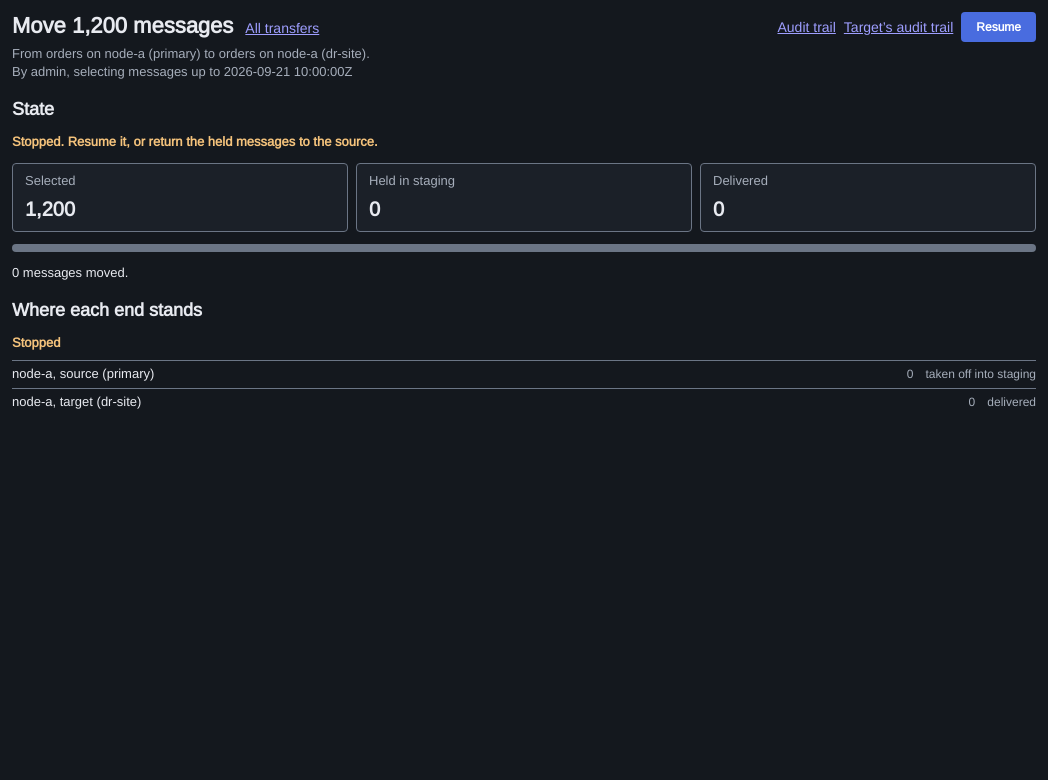
it: TransferRunView commands › resumes a stopped transfer
Click the button "Resume" at [999, 27], box top-left (961, 12), bottom-right (1036, 42)
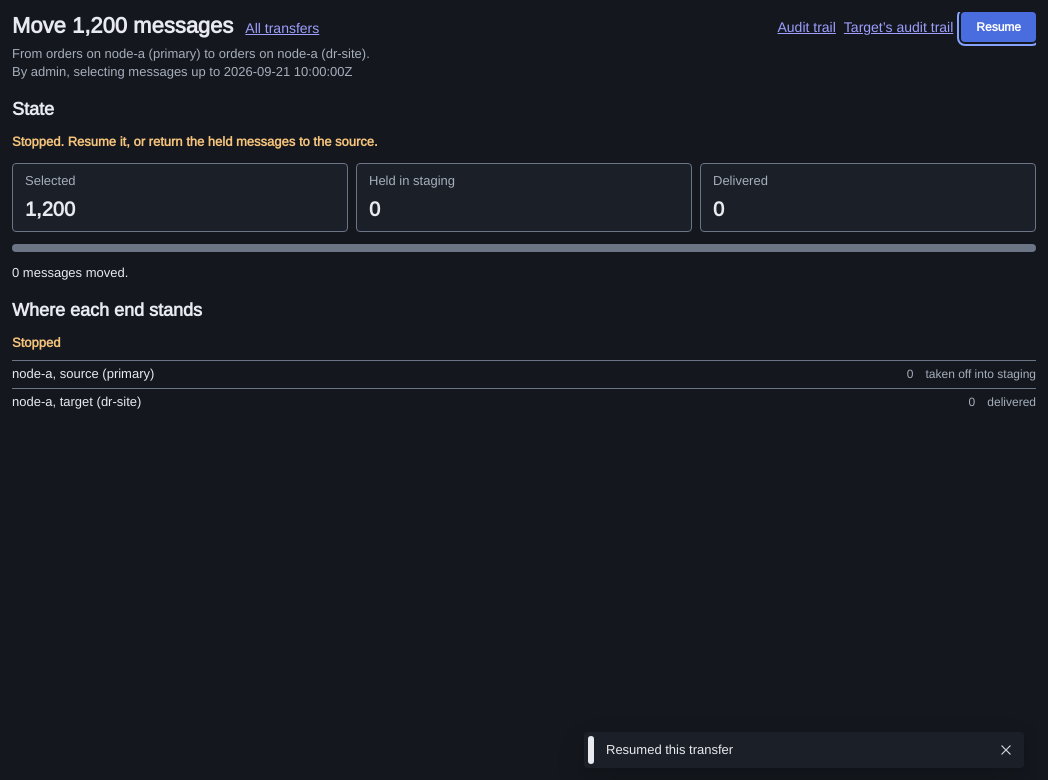
Now the text "Resumed this transfer" is shown, box top-left (606, 741), bottom-right (733, 758)
